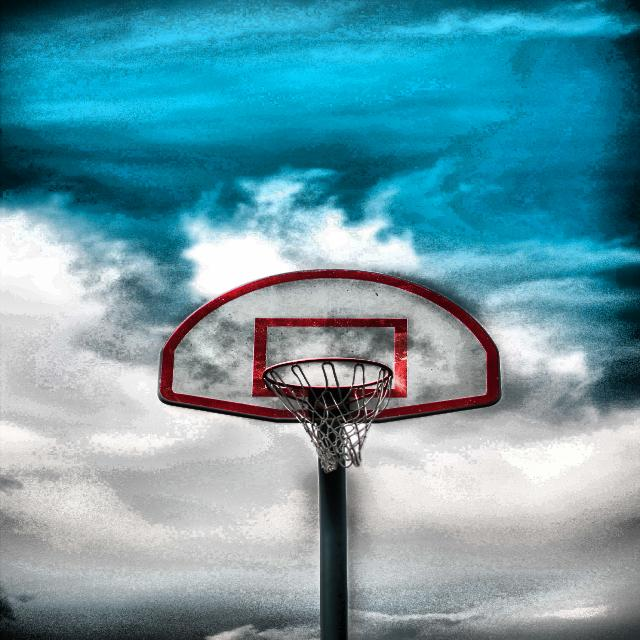rim: (258, 356, 398, 471)
